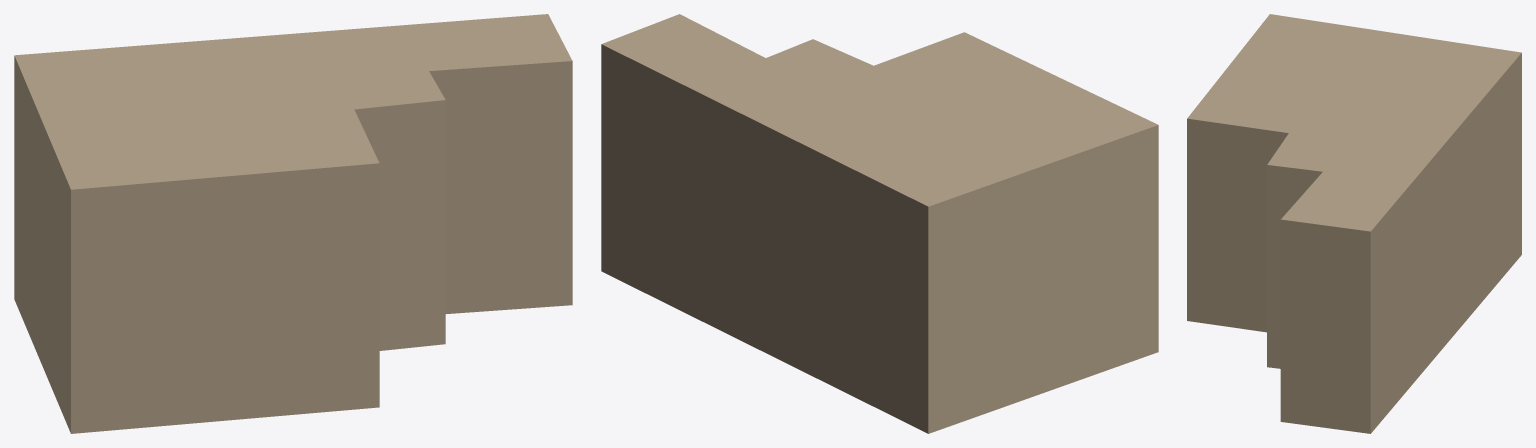
Rendered from bld_98868827.dae.
3 renders of one model, left to right at view 1: azimuth 30°, elevation 25°; view 2: azimuth 150°, elevation 25°; view 3: azimuth 270°, elevation 25°, orthographic. The views are drawn at different scales.
Parts seen in each view (by area): view 1: bld_98868827; view 2: bld_98868827; view 3: bld_98868827.
Boxes of the visible parts, x1,y1,x2,y2 form: bld_98868827: (14,14,572,433); bld_98868827: (601,14,1158,433); bld_98868827: (1187,14,1521,433).
Bounding box in the file's own units: 18.45 × 11.99 × 8.
